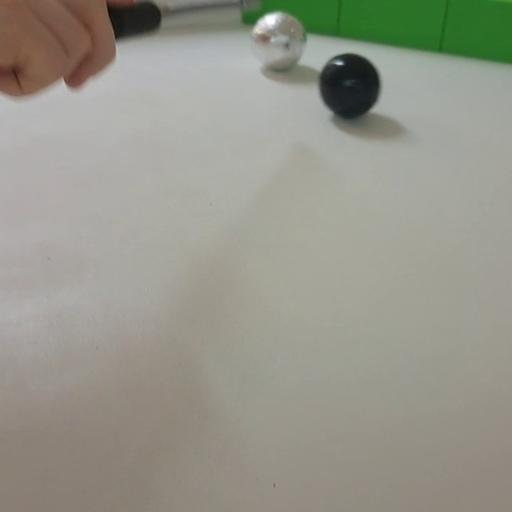alive: (250, 11, 306, 71)
dead: (319, 54, 379, 120)
